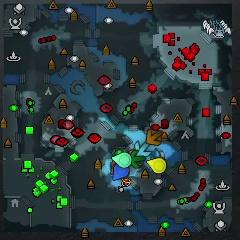p1: (112, 163, 131, 181)
p2: (113, 153, 133, 168)
p4: (145, 157, 168, 173)
x3: (134, 141, 150, 157)
x4: (131, 149, 145, 168)
x5: (145, 128, 164, 146)
